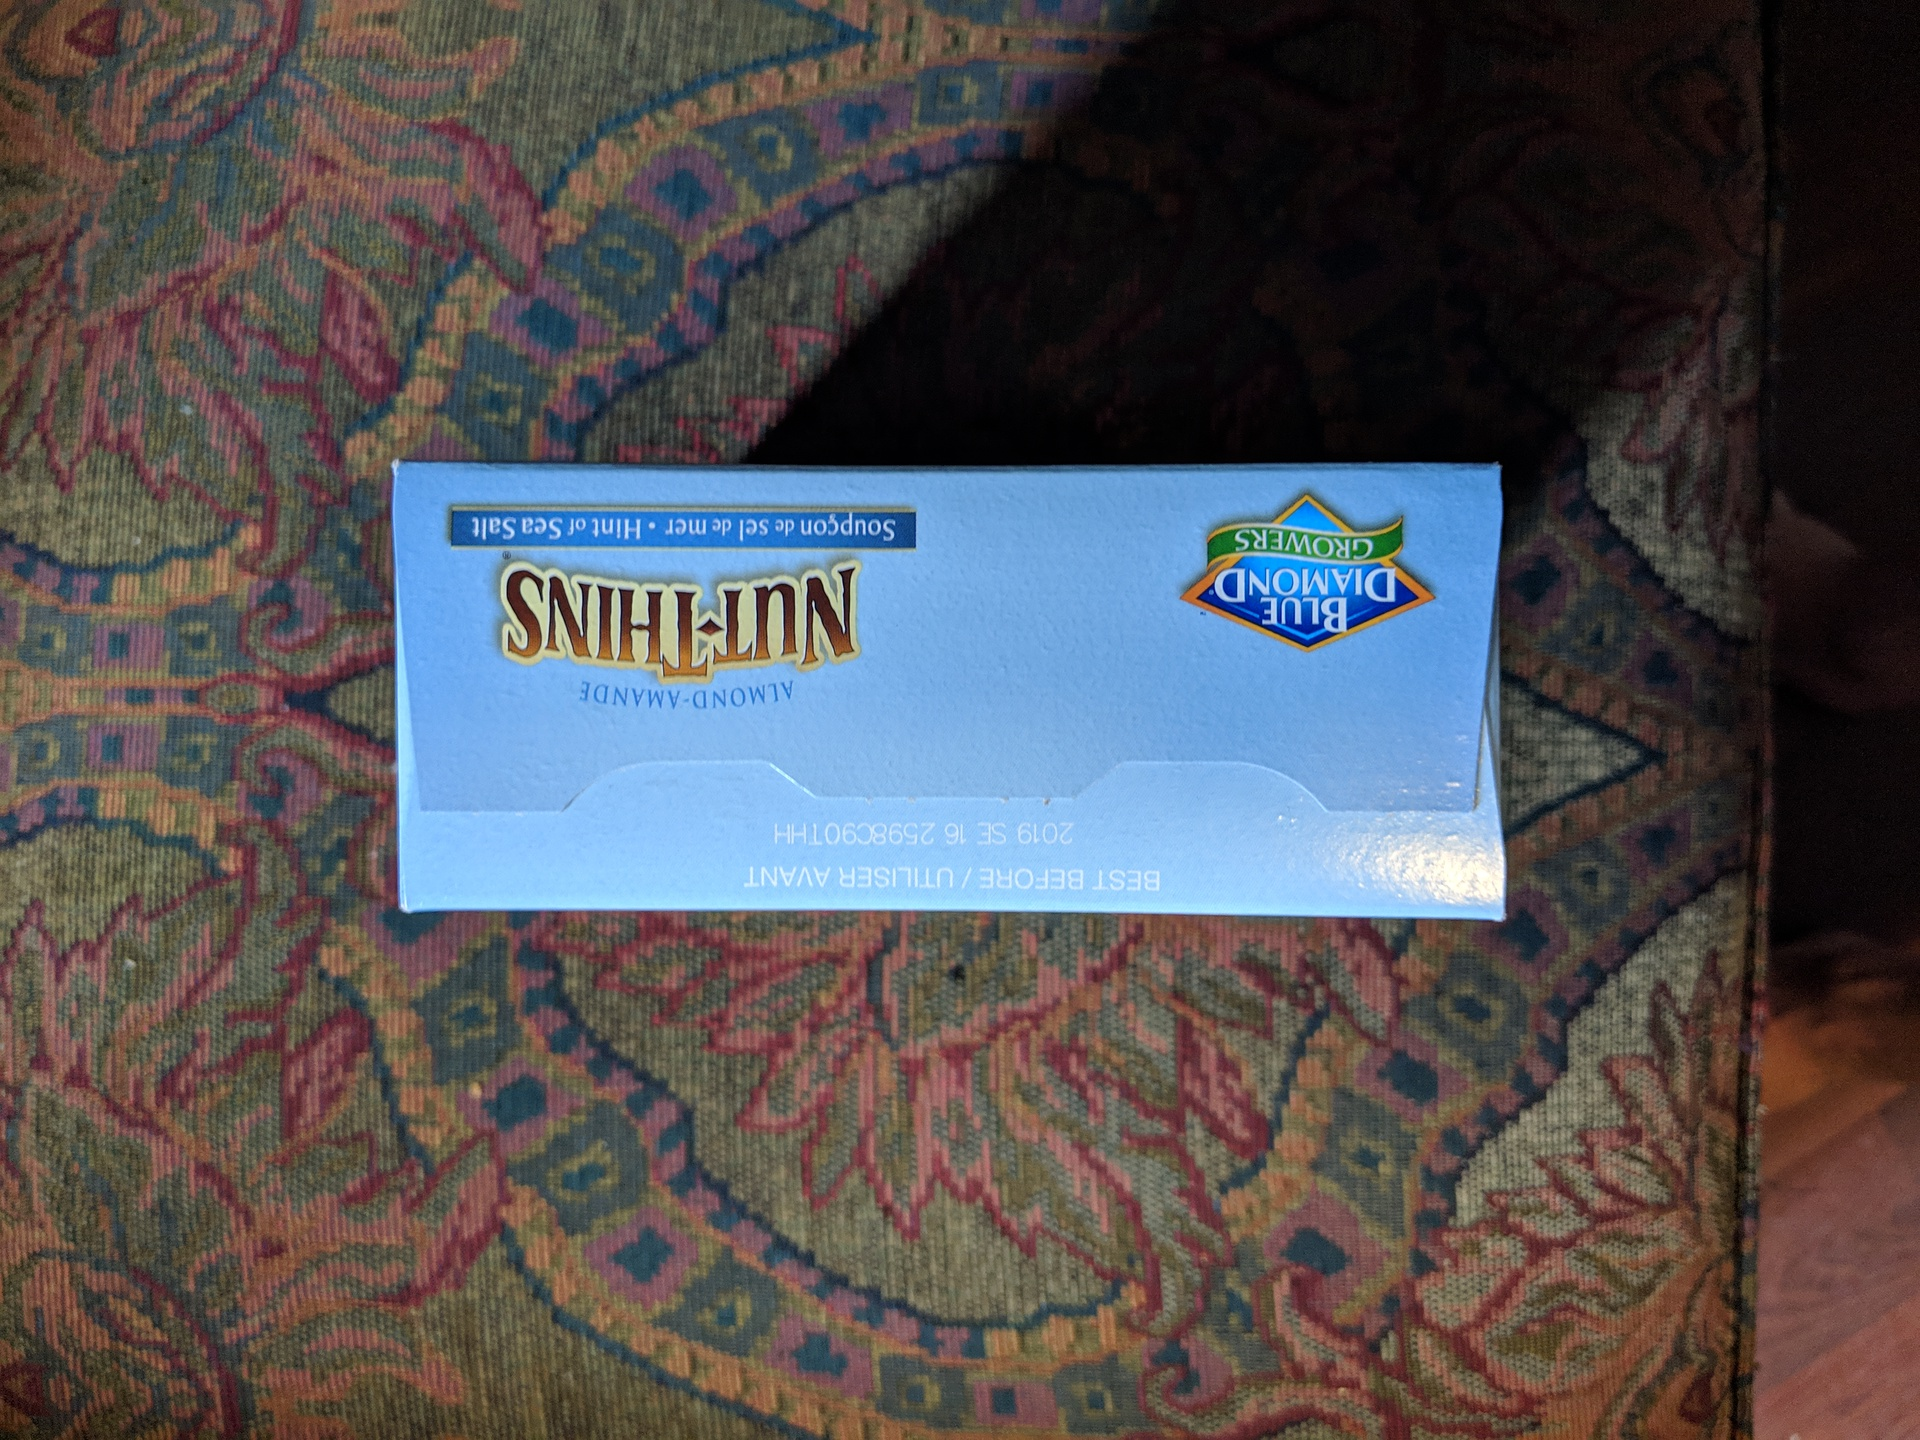blue_diamond_nut_thins_almond_seasalt: (384, 461, 1521, 930)
